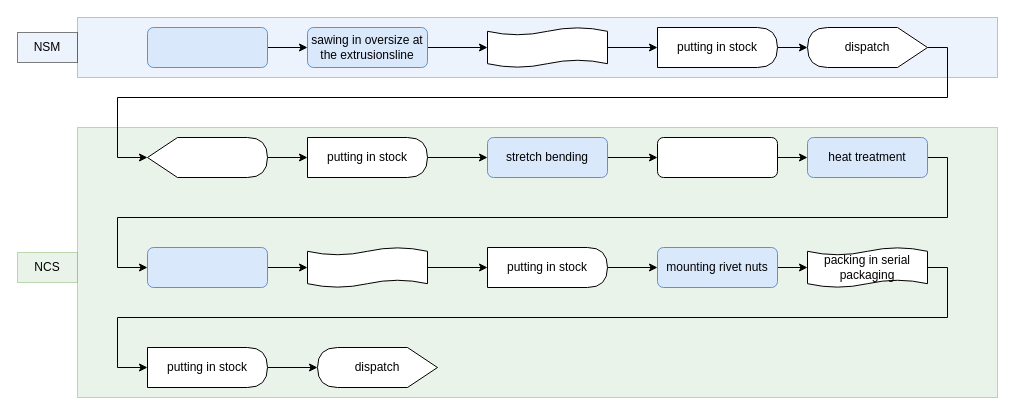
The diagram is 1015 pixels wide and 415 high, and some of its shapes have lost their labels. Each missing label, with the centre of its shape:
"extruding profiles" belongs at (x=207, y=47).
"incoming goods inspection" belongs at (x=207, y=157).
"milling" belongs at (x=207, y=267).
"packing for dispatch" belongs at (x=547, y=47).
"packing for internal transport" belongs at (x=367, y=267).
"putting in racks for heat treatment" belongs at (x=717, y=157).
